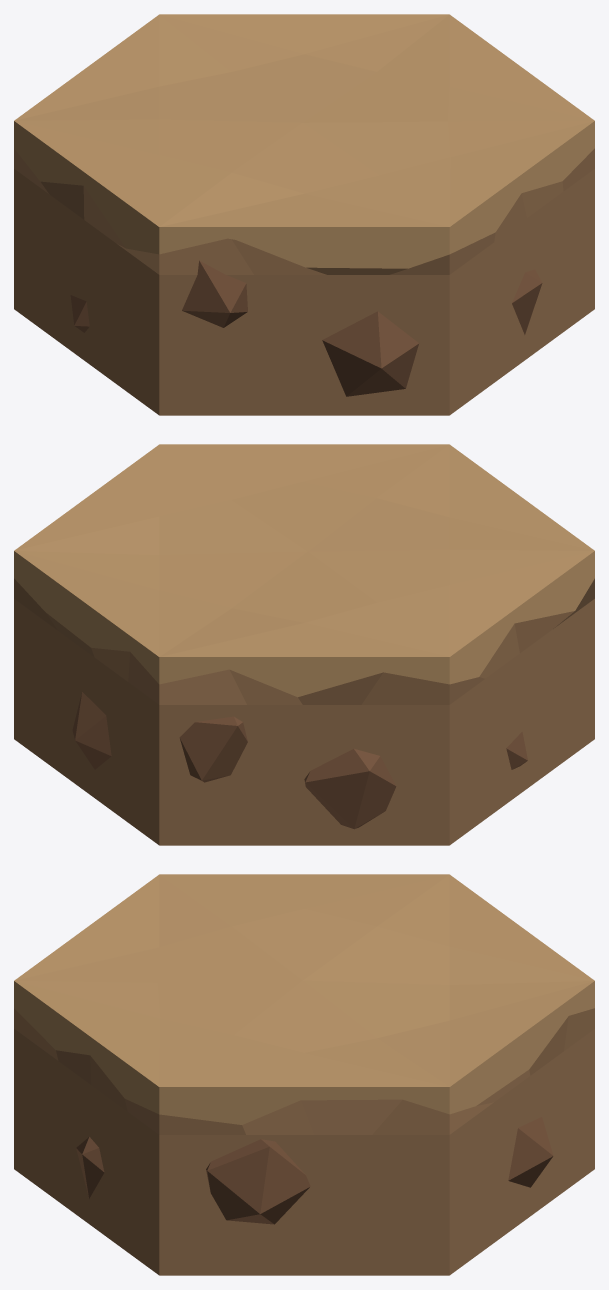
The model's file is PlatformeBaseSand.fbx.
3 renders of one model, top to bottom at view 1: azimuth 30°, elevation 25°; view 2: azimuth 150°, elevation 25°; view 3: azimuth 270°, elevation 25°, orthographic.
Parts seen in each view (by area): view 1: Circle; view 2: Circle; view 3: Circle.
Boxes of the visible parts, x1,y1,x2,y2 form: Circle: [14, 14, 594, 415]; Circle: [14, 444, 594, 845]; Circle: [14, 874, 594, 1275].
Size of the model in its own units: 9399 by 3695 by 10000.
